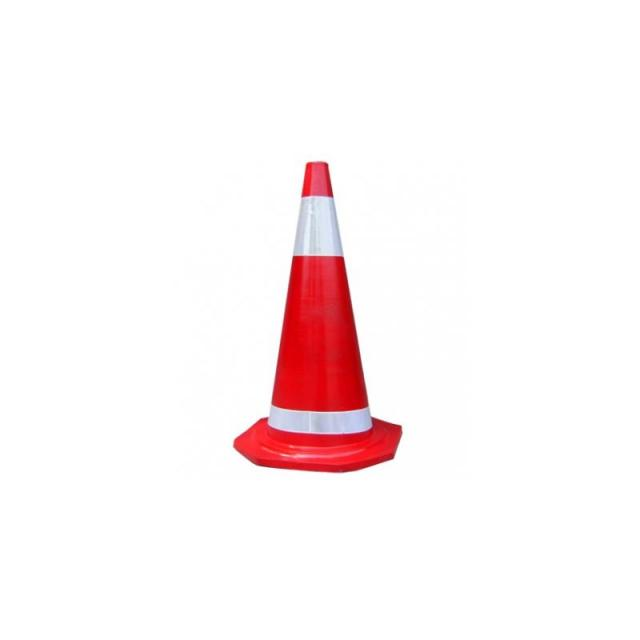reflective_cone: (230, 154, 404, 472)
